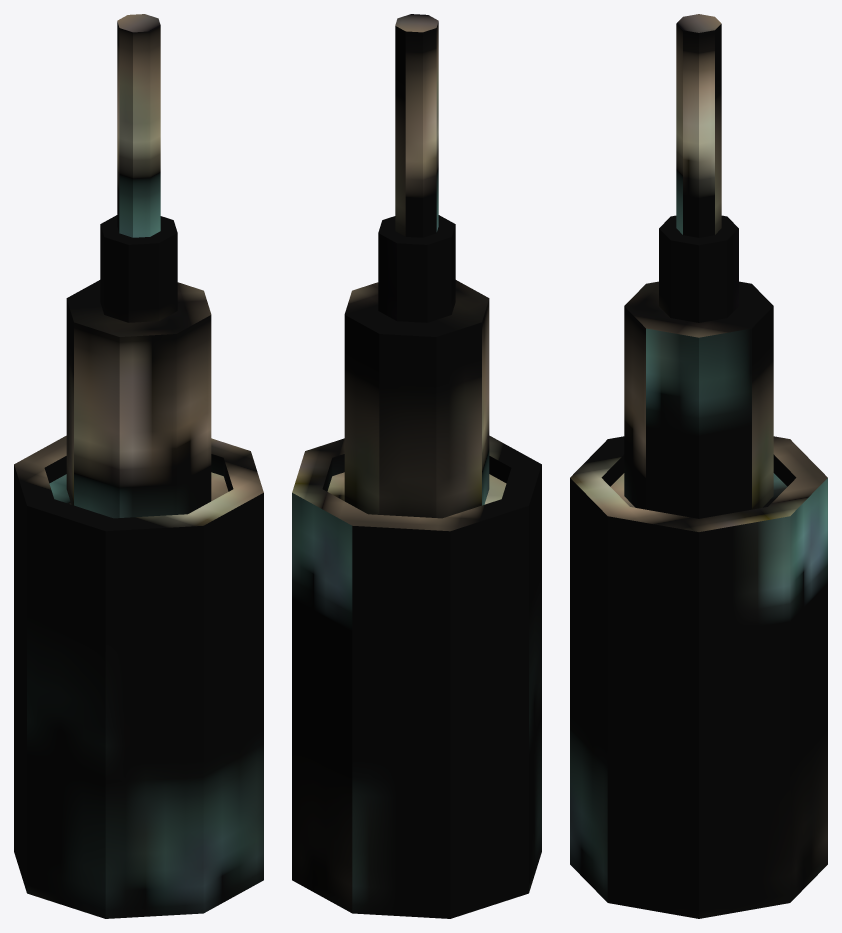
File: Building4.fbx
The picture shows the model from 3 angles, left to right: view 1: azimuth 30°, elevation 25°; view 2: azimuth 150°, elevation 25°; view 3: azimuth 270°, elevation 25°; orthographic projection.
Visible parts, largest first — view 1: Cylinder.001; view 2: Cylinder.001; view 3: Cylinder.001.
Boxes of the visible parts, x1=… form: Cylinder.001: x1=14, y1=14, x2=263, y2=918; Cylinder.001: x1=292, y1=14, x2=541, y2=918; Cylinder.001: x1=570, y1=14, x2=827, y2=918.
Size of the model in its own units: 1780 by 6404 by 1780.
